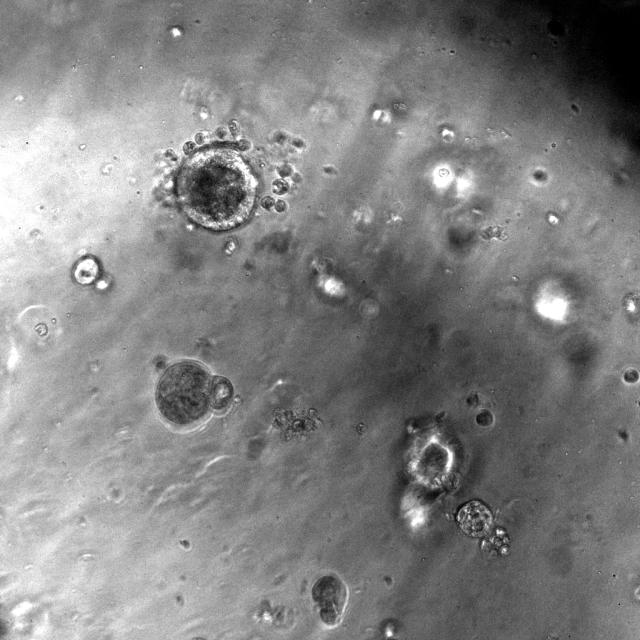organoid: (154, 120, 259, 232), (154, 358, 234, 432), (455, 499, 510, 557), (311, 573, 348, 627), (272, 408, 322, 440), (72, 253, 112, 292), (270, 130, 306, 151), (271, 162, 293, 195), (261, 195, 286, 212), (481, 225, 507, 240), (476, 409, 493, 426), (624, 368, 639, 383)
